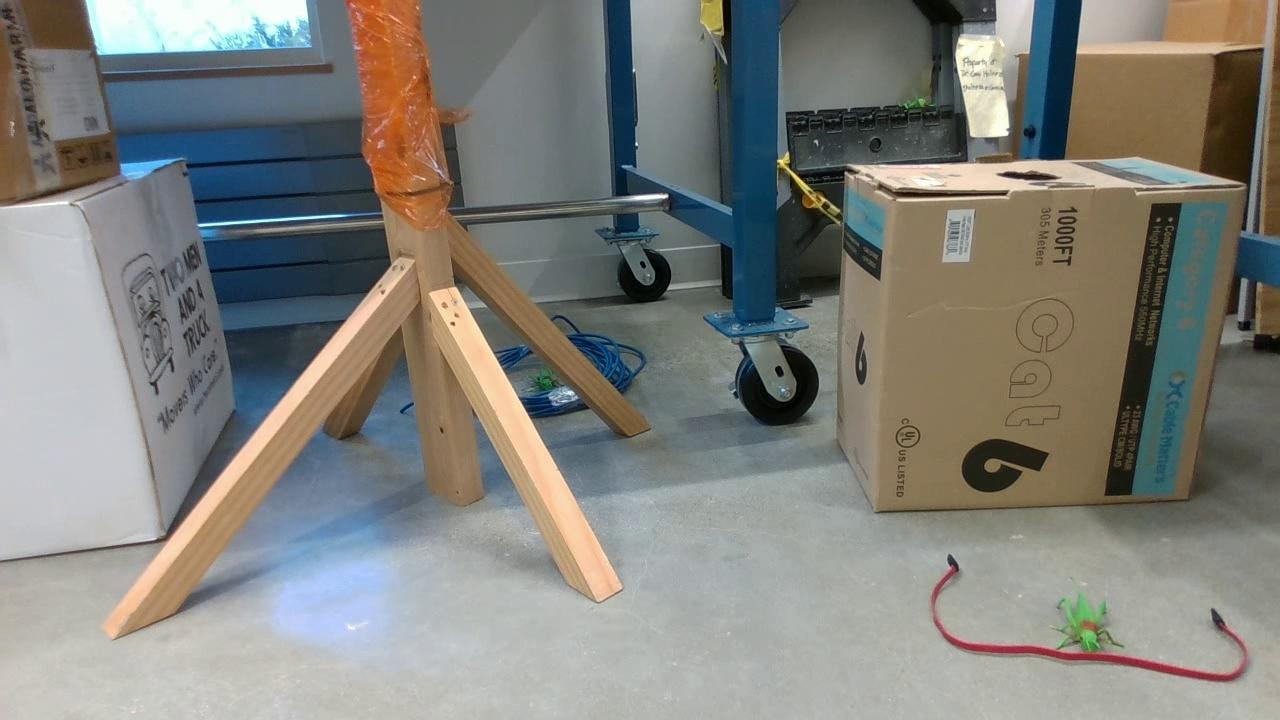grasshopper: (1051, 593, 1124, 657), (530, 367, 563, 390), (898, 99, 929, 109)
